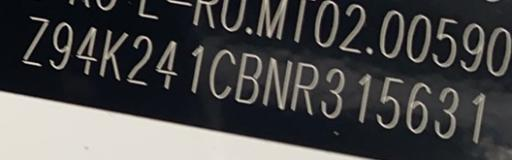letter: (288, 60, 320, 116), (18, 13, 50, 68), (98, 25, 128, 83), (261, 56, 293, 110), (374, 73, 404, 129), (234, 50, 264, 106), (404, 80, 432, 136), (432, 85, 460, 141), (125, 32, 153, 88), (319, 66, 347, 120), (208, 48, 236, 100), (48, 20, 74, 72), (74, 24, 98, 78), (154, 38, 178, 92), (353, 71, 373, 125), (470, 89, 488, 145), (188, 44, 204, 96)
